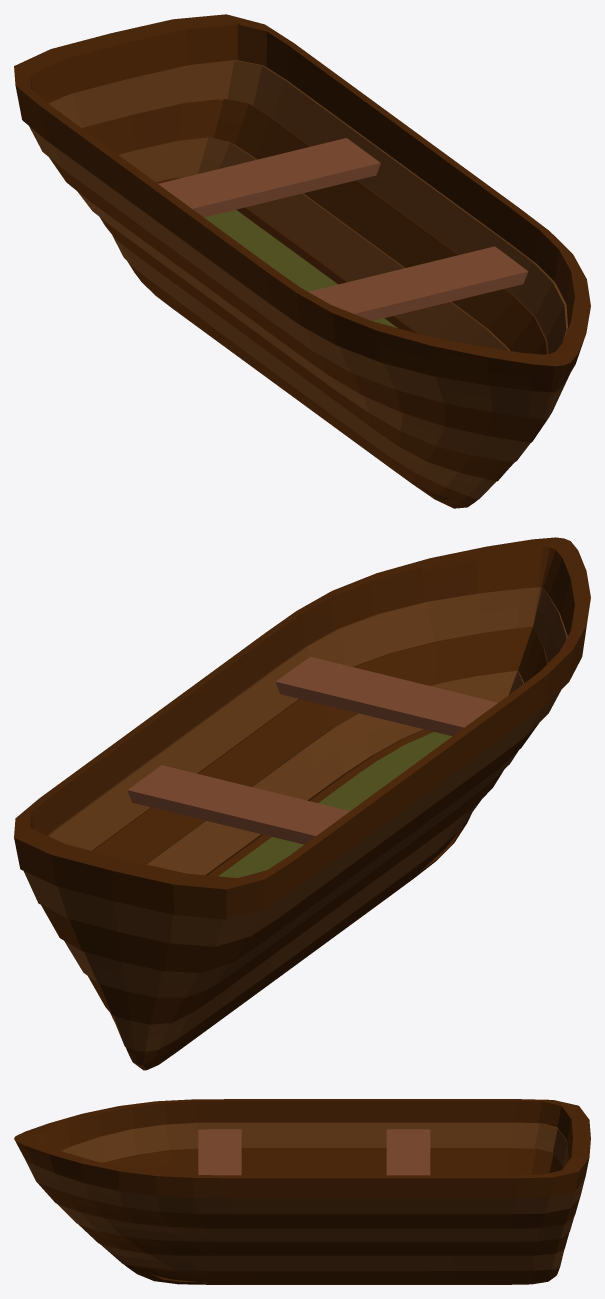
Rendered from VR_Boat.fbx.
3 renders of one model, top to bottom at view 1: azimuth 30°, elevation 25°; view 2: azimuth 150°, elevation 25°; view 3: azimuth 270°, elevation 25°, orthographic. The views are drawn at different scales.
Parts seen in each view (by area): view 1: Cube.002, Cube.004, Cube.005, Cube.006, Cube, Cube.001, Cube.007, Cube.008, Cube.003, Plane; view 2: Cube.002, Cube.004, Cube.005, Cube.006, Cube, Cube.001, Cube.007, Cube.008, Plane, Cube.003; view 3: Cube.002, Cube.004, Cube.005, Cube.008, Cube.006, Cube.007, Cube.003, Cube, Cube.001.
Part boxes in pixels (bbox=[...]): Cube.002: bbox=[14, 14, 590, 392]; Cube.004: bbox=[29, 60, 570, 419]; Cube.005: bbox=[49, 99, 548, 442]; Cube.006: bbox=[77, 137, 530, 461]; Cube: bbox=[158, 138, 380, 217]; Cube.001: bbox=[308, 246, 528, 320]; Cube.007: bbox=[100, 177, 514, 481]; Cube.008: bbox=[112, 235, 496, 499]; Cube.003: bbox=[127, 261, 477, 508]; Plane: bbox=[204, 209, 397, 327]; Cube.002: bbox=[14, 537, 590, 919]; Cube.004: bbox=[23, 587, 567, 946]; Cube.005: bbox=[41, 626, 547, 972]; Cube.006: bbox=[64, 670, 524, 997]; Cube: bbox=[127, 765, 349, 844]; Cube.001: bbox=[275, 657, 497, 736]; Cube.007: bbox=[88, 729, 503, 1024]; Cube.008: bbox=[110, 800, 480, 1051]; Plane: bbox=[219, 732, 451, 877]; Cube.003: bbox=[126, 814, 471, 1070]; Cube.002: bbox=[14, 1099, 590, 1198]; Cube.004: bbox=[25, 1122, 584, 1214]; Cube.005: bbox=[37, 1148, 579, 1228]; Cube.008: bbox=[100, 1244, 564, 1271]; Cube.006: bbox=[57, 1204, 574, 1241]; Cube.007: bbox=[78, 1224, 568, 1255]; Cube.003: bbox=[124, 1264, 560, 1284]; Cube: bbox=[386, 1129, 430, 1175]; Cube.001: bbox=[198, 1129, 241, 1175].
Size of the model in its own units: 200 by 173 by 616.
